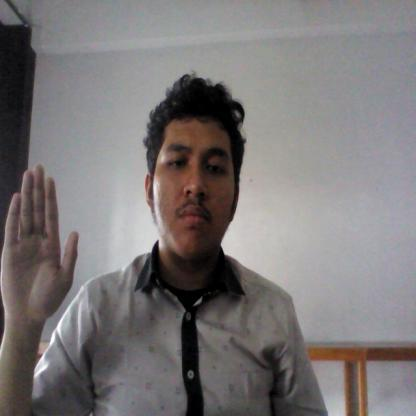Halo: (1, 161, 82, 348)
